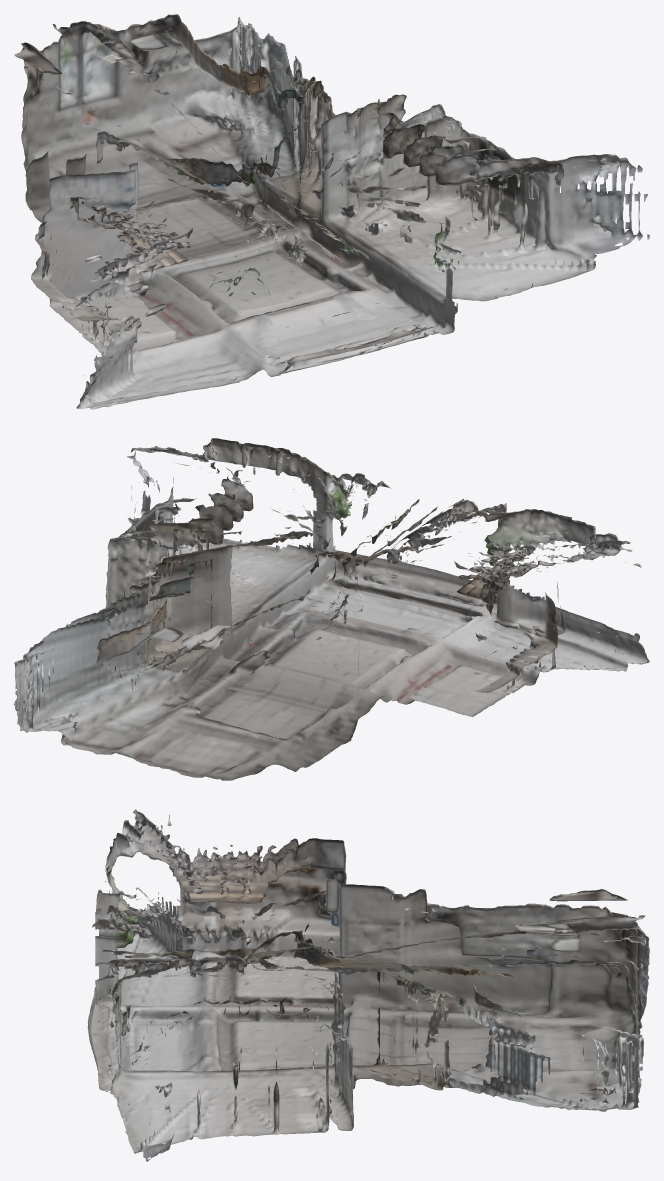
File: collider.glb
The picture shows the model from 3 angles, top to bottom: view 1: azimuth 30°, elevation 25°; view 2: azimuth 150°, elevation 25°; view 3: azimuth 270°, elevation 25°; orthographic projection. The views are drawn at different scales.
Parts seen in each view (by area): view 1: world; view 2: world; view 3: world.
Boxes of the visible parts, x1,y1,x2,y2 form: world: (14, 14, 649, 409); world: (14, 438, 649, 780); world: (87, 809, 649, 1161).
Bounding box in the file's own units: 10.38 × 2.43 × 10.4.
